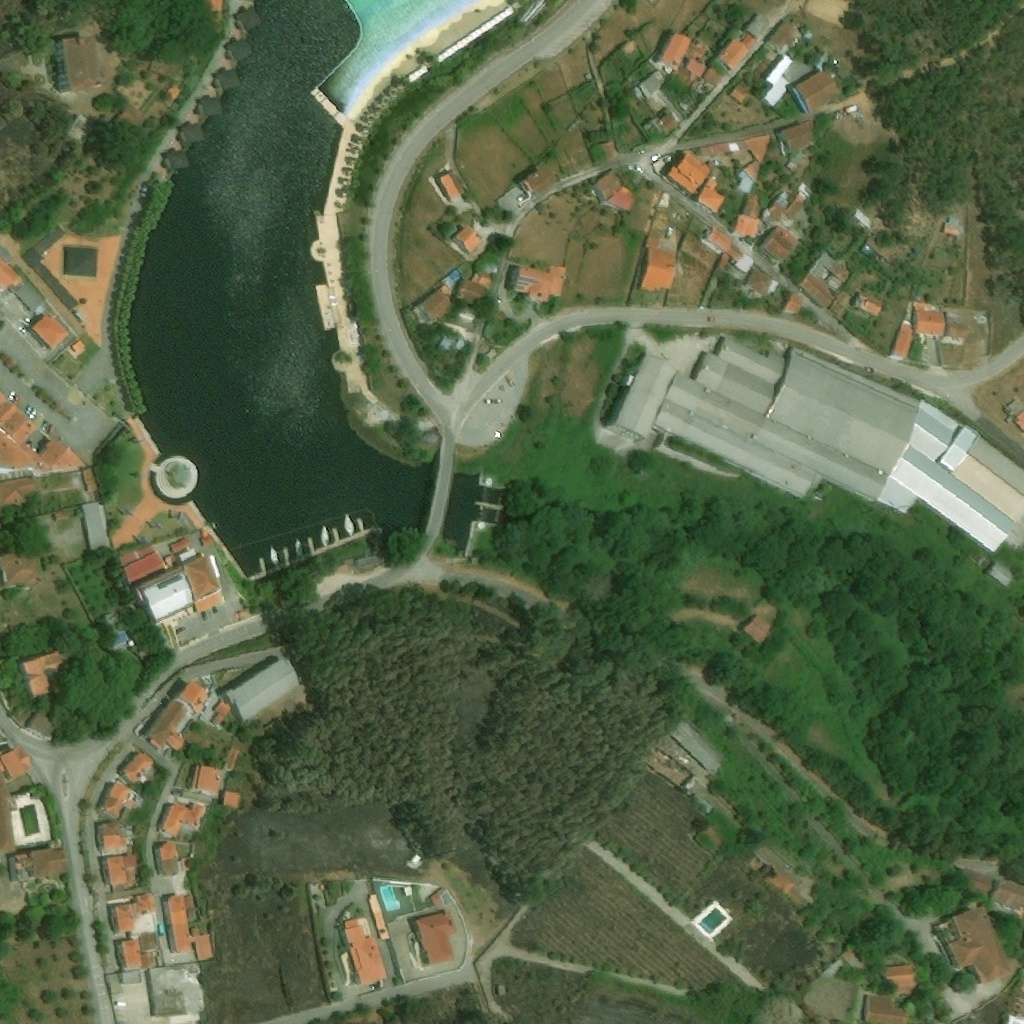0 no-damage: (654, 333, 1023, 554), (0, 391, 85, 474), (605, 354, 678, 442), (946, 905, 1014, 985), (21, 226, 80, 312), (224, 658, 300, 722), (162, 895, 214, 961), (744, 852, 804, 909), (667, 714, 724, 772), (343, 917, 390, 987), (800, 249, 854, 309), (56, 34, 106, 95), (149, 963, 205, 1017), (142, 698, 195, 754), (17, 649, 72, 700), (136, 573, 195, 620), (414, 908, 460, 965), (639, 237, 679, 292), (667, 148, 714, 194), (507, 266, 567, 302), (792, 70, 840, 114), (769, 182, 816, 225), (183, 554, 222, 601), (762, 53, 795, 108), (160, 801, 208, 838), (595, 171, 636, 213), (414, 284, 455, 324), (0, 747, 32, 798), (739, 134, 773, 182), (864, 994, 917, 1023), (32, 312, 71, 351), (81, 502, 110, 554), (478, 453, 514, 494), (706, 224, 744, 262), (719, 34, 757, 71), (122, 552, 167, 583), (765, 225, 802, 262), (22, 848, 69, 877), (0, 553, 40, 586), (880, 963, 920, 996), (112, 103, 148, 139), (104, 853, 139, 889), (104, 780, 135, 820), (462, 522, 493, 562), (122, 750, 155, 785), (764, 18, 799, 51), (661, 32, 692, 68), (0, 477, 37, 507), (14, 281, 46, 315), (914, 301, 946, 335), (524, 166, 558, 198), (63, 247, 98, 278), (781, 120, 816, 151), (117, 543, 158, 569), (451, 223, 484, 255), (0, 797, 18, 855), (991, 878, 1023, 910), (178, 680, 209, 713), (27, 710, 61, 739), (370, 894, 391, 940), (741, 615, 773, 645), (191, 765, 221, 796), (437, 170, 466, 202), (892, 322, 916, 359), (700, 178, 726, 212), (66, 114, 95, 144), (0, 255, 24, 290), (455, 279, 489, 303), (988, 560, 1016, 588), (499, 185, 527, 213), (746, 268, 775, 295), (436, 320, 473, 341), (157, 842, 180, 875), (195, 590, 225, 615), (212, 68, 242, 93), (852, 291, 883, 315), (640, 71, 666, 99), (946, 312, 973, 338), (236, 5, 263, 31), (867, 237, 895, 262), (112, 904, 134, 935), (103, 823, 129, 849), (1004, 397, 1023, 432), (122, 940, 143, 969), (831, 290, 854, 315), (226, 40, 251, 63), (701, 827, 724, 851), (165, 150, 189, 173), (690, 793, 713, 816), (852, 208, 876, 230), (103, 631, 127, 653), (212, 701, 232, 727), (8, 854, 27, 881), (960, 861, 996, 875), (181, 124, 206, 144), (785, 294, 807, 316), (441, 267, 463, 289), (659, 110, 679, 134), (199, 98, 222, 118), (405, 65, 428, 85), (489, 8, 513, 27), (225, 746, 243, 771), (745, 196, 764, 219), (950, 220, 966, 247), (138, 894, 157, 916), (461, 29, 484, 47), (737, 214, 754, 238), (701, 143, 730, 157), (730, 84, 751, 103), (740, 171, 757, 194), (82, 469, 98, 493), (704, 68, 724, 87), (685, 59, 706, 77), (430, 886, 447, 908), (52, 508, 76, 523), (105, 974, 123, 994), (434, 48, 455, 65), (439, 334, 457, 352), (141, 933, 160, 950), (178, 548, 198, 563), (0, 243, 14, 264), (840, 948, 857, 965), (123, 971, 143, 985), (225, 792, 241, 809), (166, 84, 182, 99), (861, 243, 876, 258), (473, 275, 493, 286), (477, 341, 492, 355), (717, 253, 730, 269), (845, 103, 860, 115), (141, 956, 157, 967), (71, 340, 84, 353), (211, 0, 223, 12), (133, 796, 144, 809), (233, 602, 244, 614), (457, 337, 466, 351), (410, 855, 421, 865), (730, 142, 740, 152), (1010, 1016, 1023, 1023), (405, 887, 414, 896), (182, 858, 188, 871), (222, 779, 229, 789), (511, 0, 517, 6)
3 destroyed: (641, 741, 697, 791), (1015, 1007, 1023, 1017)
4 un-classified: (641, 0, 659, 7), (423, 848, 435, 858)
